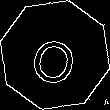O_N: (27, 25, 83, 85)
